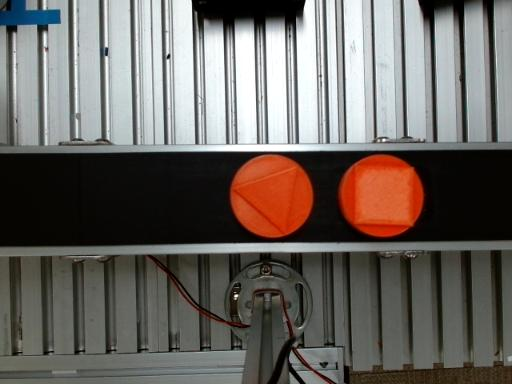Not_Square: (233, 167, 298, 235)
Orange_Waper: (338, 154, 424, 237), (230, 154, 313, 238)
Square: (353, 164, 415, 226)
